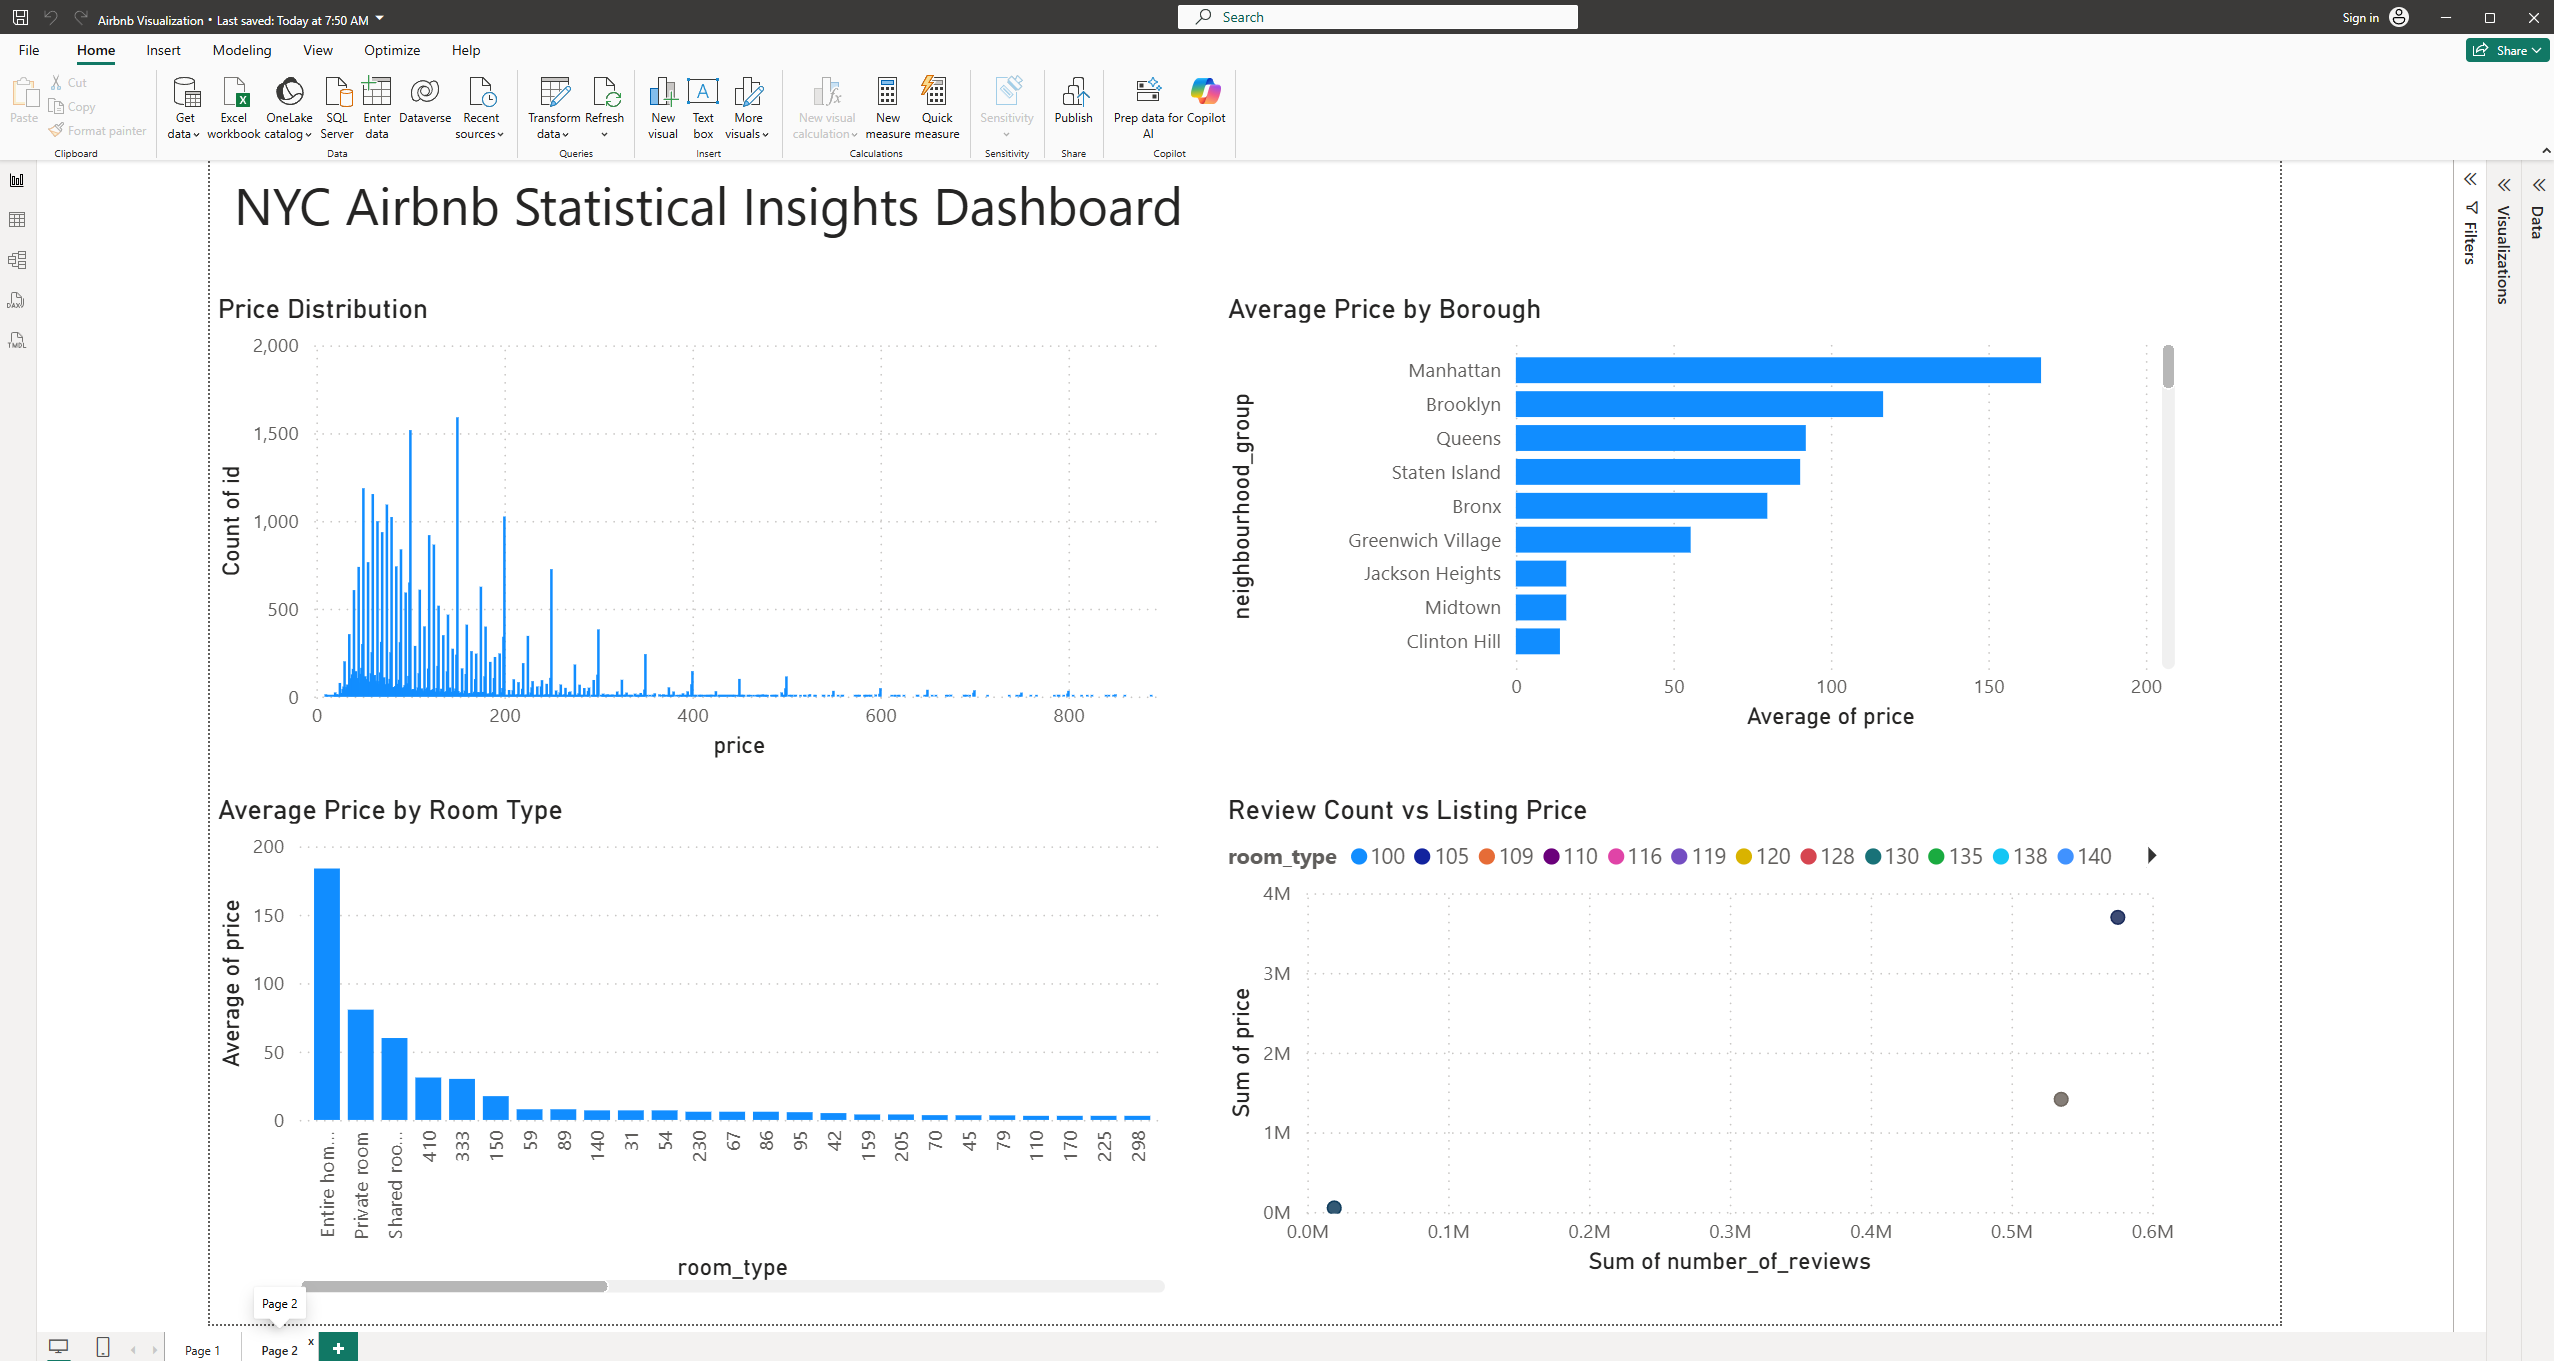

Layout of this report page (visuals, bound fields, positions):
{"tool":"powerbi","page":{"name":"Page 2","canvas":[1280,720],"ordinal":1},"visuals":[{"type":"textbox","box":[9.8,0,615.1,55],"z":0},{"type":"clusteredColumnChart","title":"Price Distribution","fields":{"Category":["airbnb_powerbi.price"],"Y":["CountNonNull(airbnb_powerbi.id)"]},"box":[0,81.6,604.9,293.2],"z":1},{"type":"clusteredColumnChart","title":"Average Price by Room Type","fields":{"Category":["airbnb_powerbi.room_type"],"Y":["Avg(airbnb_powerbi.price)"]},"box":[0,391.5,595.7,314.2],"z":2},{"type":"scatterChart","title":"Review Count vs Listing Price","fields":{"X":["Sum(airbnb_powerbi.number_of_reviews)"],"Y":["Sum(airbnb_powerbi.price)"],"Series":["airbnb_powerbi.room_type"]},"box":[624.7,391.5,595.7,302.5],"z":3},{"type":"clusteredBarChart","title":"Average Price by Borough","fields":{"Category":["airbnb_powerbi.neighbourhood_group"],"Y":["Avg(airbnb_powerbi.price)"]},"box":[624.7,81.6,595.7,275.3],"z":4}]}

Visuals, with their boxes on the page's 1280x720 design canvas (x1, y1, x2, y2). These are canvas units, not pixel positions in the 2554x1361 screenshot, which may show the page scaled, cropped or inside an application window:
textbox: bbox=[10, 0, 625, 55]
"Price Distribution" clusteredColumnChart: bbox=[0, 82, 605, 375]
"Average Price by Room Type" clusteredColumnChart: bbox=[0, 392, 596, 706]
"Review Count vs Listing Price" scatterChart: bbox=[625, 392, 1220, 694]
"Average Price by Borough" clusteredBarChart: bbox=[625, 82, 1220, 357]
